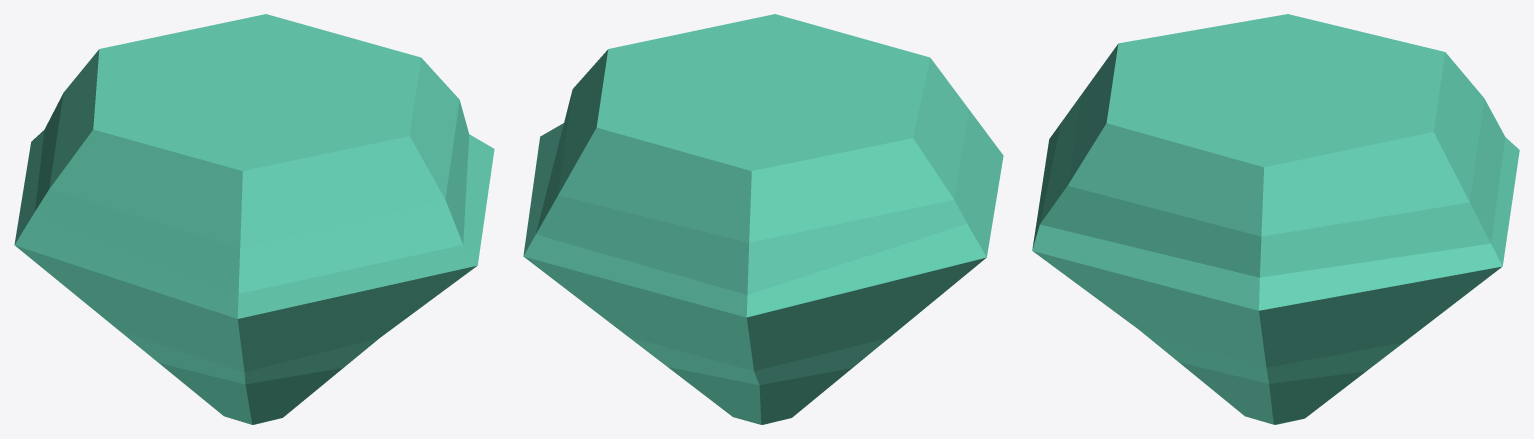
The model's file is Crystal5_Damaged.glb.
The picture shows the model from 3 angles, left to right: view 1: azimuth 30°, elevation 25°; view 2: azimuth 150°, elevation 25°; view 3: azimuth 270°, elevation 25°; orthographic projection.
Visible parts, largest first — view 1: Crystal5_Damaged_Cylinder.005; view 2: Crystal5_Damaged_Cylinder.005; view 3: Crystal5_Damaged_Cylinder.005.
Boxes of the visible parts, left/top/right/bottom form: Crystal5_Damaged_Cylinder.005: left=14, top=14, right=494, bottom=424; Crystal5_Damaged_Cylinder.005: left=523, top=14, right=1003, bottom=424; Crystal5_Damaged_Cylinder.005: left=1032, top=14, right=1519, bottom=424.
Bounding box in the file's own units: 0.6292 × 0.4311 × 0.5646.
